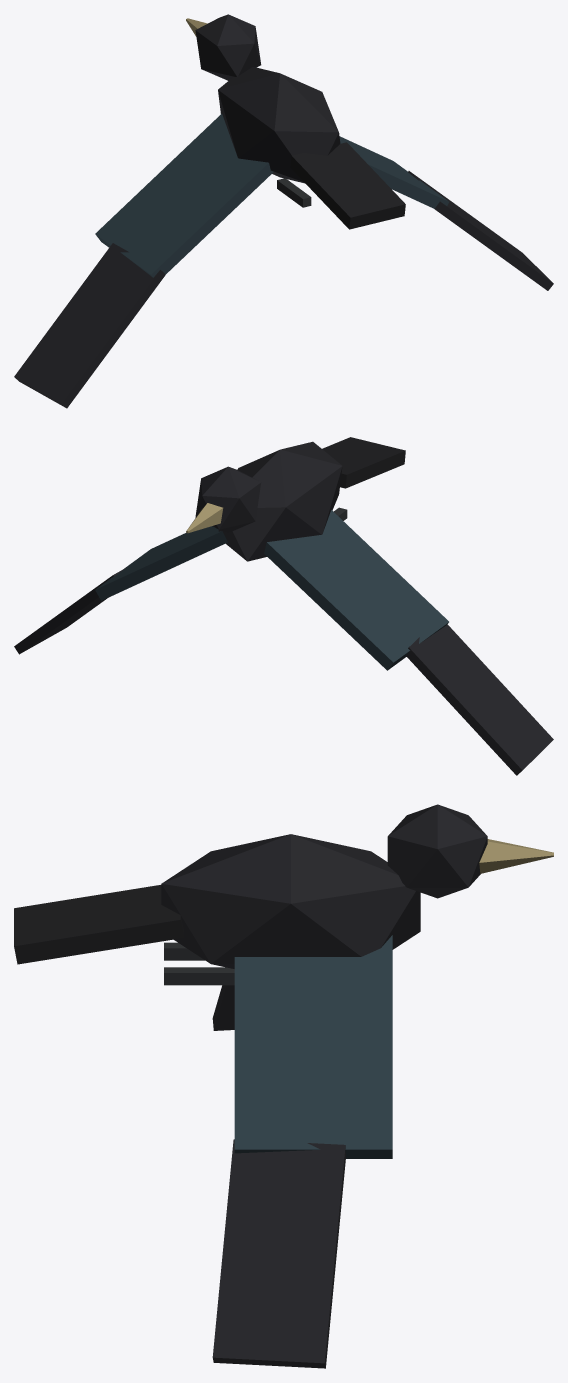
The model's file is crow_fly_f2.glb.
3 views of the same model, one above another, from view 1: azimuth 30°, elevation 25°; view 2: azimuth 150°, elevation 25°; view 3: azimuth 270°, elevation 25° (orthographic). The views are drawn at different scales.
Visible parts, largest first — view 1: crow_fly_f2; view 2: crow_fly_f2; view 3: crow_fly_f2.
Part boxes in pixels (x1,y1,x2,y2): crow_fly_f2: (14,14,553,408); crow_fly_f2: (14,437,553,775); crow_fly_f2: (14,804,553,1368).
Size of the model in its own units: 0.7357 by 0.3837 by 0.4784.
Materials: 3 (3 with a texture image).
